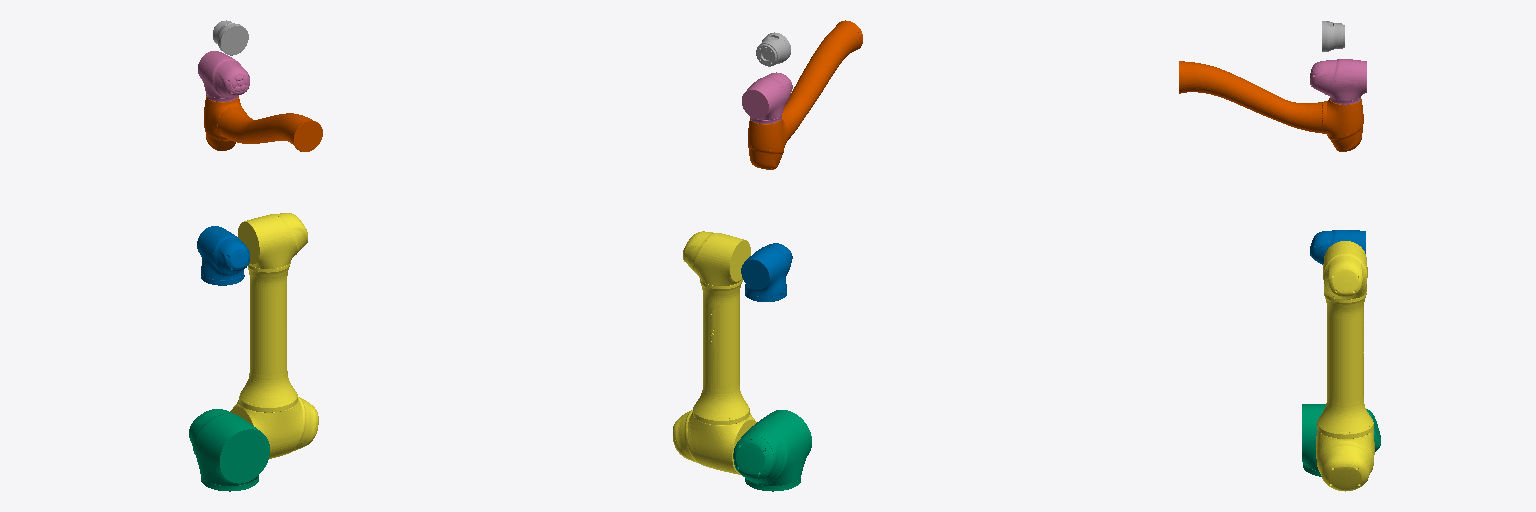
URDF robot description (a0912):
<?xml version="1.0" ?>
<robot name="a0912">
  
  <!-- I change and add info to this file  -->
  <!-- I change the links and joints values in order to match the macro xacro file -->

  <link name="world"/>
  <joint name="world_fixed" type="fixed">
    <origin xyz="0 0 0" rpy="0 0 0"/>
    <parent link="world"/>
    <child link="base_0"/>
  </joint>
  <!-- /////////////////  -->
  
  <!-- Base -->
  <link name="base_0">
    <inertial>
  	  <mass value="3.635"/>
  	  <origin xyz="4e-06 -0.001016 0.08181"/>
      <inertia ixx="0.02216" ixy="5.8001e-06" ixz="6.1941e-06" iyy="0.024835" iyz="-5.3034e-05" izz="0.021063"/>
    </inertial>
    <visual>
      <origin rpy="0 0 0" xyz="0 0 0"/>
      <geometry>
        <mesh filename="ABC123.stl" scale="0.001 0.001 0.001"/>
        </geometry>
    </visual>
    <collision>
      <geometry>
        <mesh filename="meshes/asdf.stl" scale="0.001 0.001 0.001" />
      </geometry>
    </collision>
  </link>


  <!-- joint 1 -->
  <joint name="joint1" type="revolute">
    <parent link="base_0"/>
    <child link="link1"/>
    <origin rpy="0 0 0" xyz="0 0 0.195"/>
    <axis xyz="0 0 1"/>
    <limit effort="411" lower="-6.2832" upper="6.2832" velocity="3.1416"/>
    <dynamics damping="60.0" friction="4.0" />
  </joint>

  <!-- Link 1 -->
  <link name="link1">
  	<inertial>
  	  <mass value="7.863"/>
  	  <origin xyz="4.4e-05    0.029982    -0.01112"/>
      <inertia ixx="0.045839" ixy="1.2759e-05" ixz="-3.6168e-05" iyy="0.032913" iyz="-0.0029965" izz="0.044399"/>
    </inertial>
    <collision>
      <geometry>
          <cylinder radius="0.08" length="0.2"/>
      </geometry>
    </collision>  
    <visual>
      <origin rpy="0 0 0" xyz="0 0 0"/>
      <geometry>
        <mesh filename="meshes/stl/A0912_1_0.stl" scale="0.001 0.001 0.001"/>
      </geometry>
    </visual>
    <visual>
      <origin rpy="0 0 0" xyz="0 0 0"/>
      <geometry>
        <mesh filename="meshes/stl/A0912_1_1.stl" scale="0.001 0.001 0.001"/>
      </geometry>
    </visual>
    <visual>
      <origin rpy="0 0 0" xyz="0 0 0"/>
      <geometry>
        <mesh filename="meshes/stl/A0912_1_2.stl" scale="0.001 0.001 0.001"/>
      </geometry>
    </visual>
  </link>
  

  <!-- joint2 -->
  <joint name="joint2" type="revolute">
    <parent link="link1"/>
    <child link="link2"/>
    <origin rpy="0 -1.571 -1.571" xyz="0 0.039 0"/>
    <axis xyz="0 0 1"/>
    <limit effort="411" lower="-6.2832" upper="6.2832" velocity="3.1416"/>
    <dynamics damping="50.0" friction="3.0" />  
  </joint>


  <!-- Link 2 -->
  <link name="link2">
    <inertial>
      <mass value="10.985"/>
      <origin xyz="0.19748    0.001426     0.13191"/>
      <inertia ixx="0.04446" ixy="-0.0049948" ixz="-0.010992" iyy="0.67642" iyz="-2.8483e-05" izz="0.67428"/>
    </inertial>
    <collision>
      <origin rpy="0 -1.571 0" xyz="0.3 0 0.1525" />
      <geometry>
          <cylinder radius="0.08" length="0.6"/>
      </geometry>
    </collision>
    <visual>
      <origin rpy="0 0 0" xyz="0 0 0"/>
      <geometry>
        <mesh filename="meshes/stl/A0912_2_0.stl" scale="0.001 0.001 0.001"/>
      </geometry>
    </visual>
    <visual>
      <origin rpy="0 0 0" xyz="0 0 0"/>
      <geometry>     
  	    <mesh filename="meshes/stl/A0912_2_1.stl" scale="0.001 0.001 0.001"/>
      </geometry>
    </visual>
    <visual>
      <origin rpy="0 0 0" xyz="0 0 0"/>
      <geometry>     
  	    <mesh filename="meshes/stl/A0912_2_2.stl" scale="0.001 0.001 0.001"/>
      </geometry>
    </visual>	
  </link>


  <!-- joint3 -->
  <joint name="joint3" type="revolute">
    <parent link="link2"/>
    <child link="link3"/>
    <origin rpy="0 0 1.571" xyz="0.56 0 0"/>
    <axis xyz="0 0 1"/>
    <limit effort="194" lower="-2.7925" upper="2.7925" velocity="3.1416"/>
    <dynamics damping="40.0" friction="2.0"/>
  </joint>
  
  <!-- Link 3 -->
  <link name="link3">
  	<inertial>
  	  <mass value="2.881"/>
  	  <origin xyz="8.5e-05   -0.002513    0.032058"/>
      <inertia ixx="0.012756" ixy="-5.4257e-06" ixz="1.6402e-05" iyy="0.011416" iyz="-0.0001989" izz="0.0080652"/>
    </inertial>
    <visual>
      <origin rpy="0 0 0" xyz="0 0 0"/>
      <geometry>     
  		  <mesh filename="meshes/stl/A0912_3_0.stl" scale="0.001 0.001 0.001"/>
      </geometry>
    </visual>
    <visual>
      <origin rpy="0 0 0" xyz="0 0 0"/>
      <geometry>     
  		  <mesh filename="meshes/stl/A0912_3_1.stl" scale="0.001 0.001 0.001"/>
      </geometry>
    </visual>
  </link>

  <!-- joint4 -->
  <joint name="joint4" type="revolute">
    <parent link="link3"/>
    <child link="link4"/>
    <origin rpy="1.571 0 0" xyz="0 -0.516 0"/>
    <axis xyz="0 0 1"/>
    <limit effort="50" lower="-6.2832" upper="6.2832" velocity="6.2832"/>
    <dynamics damping="20.0" friction="1.0" />
  </joint>
  

  <!-- Link 4 -->
  <link name="link4">
  	<inertial>
  	  <mass value="3.273"/>
  	  <origin xyz="-9.6e-05    0.085314    -0.13975"/>
      <inertia ixx="0.12246" ixy="2.3905e-05" ixz="2.5022e-05" iyy="0.11307" iyz="-0.027995" izz="0.017186"/>
    </inertial>
    <collision>
      <origin rpy="-0.46 0 0" xyz="0 0.075 -0.2" />
      <geometry>
        <cylinder radius="0.05" length="0.4"/>
      </geometry>
    </collision>  
    <visual>
      <origin rpy="0 0 0" xyz="0 0 0"/>
      <geometry>     
  		  <mesh filename="meshes/stl/A0912_4_0.stl" scale="0.001 0.001 0.001"/>
      </geometry>
    </visual>
    <visual>
      <origin rpy="0 0 0" xyz="0 0 0"/>
      <geometry>     
  		  <mesh filename="meshes/stl/A0912_4_1.stl" scale="0.001 0.001 0.001"/>
      </geometry>
    </visual>
  </link>

  <!-- joint5 -->
  <joint name="joint5" type="revolute">
    <parent link="link4"/>
    <child link="link5"/>
    <origin rpy="-1.571 0 0" xyz="0 0 0"/>
    <axis xyz="0 0 1"/>
    <limit effort="50" lower="-6.2832" upper="6.2832" velocity="6.2832"/>
    <dynamics damping="10.0" friction="1.0" />
  </joint>
  
  <!-- Link 5 -->

  <link name="link5">
  	<inertial>
  	  <mass value="2.141"/>
  	  <origin xyz="0.000109   -0.003286     0.01477"/>
      <inertia ixx="0.013145" ixy="-4.7132e-06" ixz="8.5804e-06" iyy="0.0073072" iyz="-5.999e-05" izz="0.0090476"/>
    </inertial>
    <collision>
      <origin rpy="1.571 0 0" xyz="0 0 0" />
      <geometry>
        <cylinder radius="0.06" length="0.15"/>
      </geometry>
    </collision>
    <visual>
      <origin rpy="0 0 0" xyz="0 0 0"/>
      <geometry>     
  	    <mesh filename="meshes/stl/A0912_5_0.stl" scale="0.001 0.001 0.001"/>
      </geometry>
    </visual>
    <visual>
      <origin rpy="0 0 0" xyz="0 0 0"/>
      <geometry>     
  	    <mesh filename="meshes/stl/A0912_5_1.stl" scale="0.001 0.001 0.001"/>
      </geometry>
    </visual>
  </link>


  <!-- Joint6 -->

  <joint name="joint6" type="revolute">
    <parent link="link5"/>
    <child link="link6"/>
    <origin rpy="1.571 0 0" xyz="0 -0.124 0"/>
    <axis xyz="0 0 1"/>
    <limit effort="50" lower="-6.2832" upper="6.2832" velocity="6.2832"/>
    <dynamics damping="10.0" friction="1.0" />
  </joint>
  
  <!-- Link 6 -->

  <link name="link6">
  	<inertial>
  	  <mass value="0.784"/>
  	  <origin xyz="-1.9e-05      -6e-06    -0.05227"/>
      <inertia ixx="0.0067403" ixy="5.2373e-06" ixz="2.4957e-06" iyy="0.0048015" iyz="8.3671e-06" izz="0.0059696"/>
    </inertial>
    <visual>
      <origin rpy="0 0 0" xyz="0 0 0"/>
      <geometry>     
  		  <mesh filename="meshes/stl/A0912_6_0.stl" scale="0.001 0.001 0.001"/>
      </geometry>
    </visual>
    <collision>
      <geometry>
        <mesh filename="meshes/stl/A0912_6_0.stl" scale="0.001 0.001 0.001" />
      </geometry>
    </collision>
  </link>
  
</robot>

--- Render facts (derived) ---
The picture shows the robot from 3 angles, left to right: view 1: azimuth 30°, elevation 25°; view 2: azimuth 150°, elevation 25°; view 3: azimuth 270°, elevation 25°; orthographic projection.
Model a0912 with 8 links and 7 joints (6 revolute, 1 fixed), rooted at world, posed all joints at 0.
Links seen in each view (by area): view 1: link2, link1, link4, link3, link5, link6; view 2: link2, link4, link1, link3, link5, link6; view 3: link2, link4, link5, link1, link3, link6.
Link boxes in pixels (x1=…): link2: x1=230, y1=213, x2=318, y2=458; link1: x1=189, y1=409, x2=269, y2=491; link4: x1=204, y1=96, x2=322, y2=151; link3: x1=197, y1=226, x2=249, y2=285; link5: x1=198, y1=51, x2=249, y2=101; link6: x1=213, y1=20, x2=248, y2=55; link2: x1=673, y1=231, x2=756, y2=474; link4: x1=748, y1=20, x2=862, y2=169; link1: x1=733, y1=410, x2=811, y2=491; link3: x1=741, y1=243, x2=792, y2=301; link5: x1=742, y1=72, x2=792, y2=123; link6: x1=756, y1=32, x2=790, y2=66; link2: x1=1316, y1=241, x2=1374, y2=491; link4: x1=1179, y1=61, x2=1363, y2=151; link5: x1=1310, y1=59, x2=1366, y2=104; link1: x1=1302, y1=404, x2=1380, y2=476; link3: x1=1310, y1=230, x2=1365, y2=264; link6: x1=1322, y1=21, x2=1344, y2=51.
Size in the robot's own frame: 0.3594 by 0.5556 by 1.34 metres.
Meshes: 14 distinct files referenced, 13 mesh visuals loaded (13 binary STL); not drawn: 1 (reference not matched to a file when rendering).
